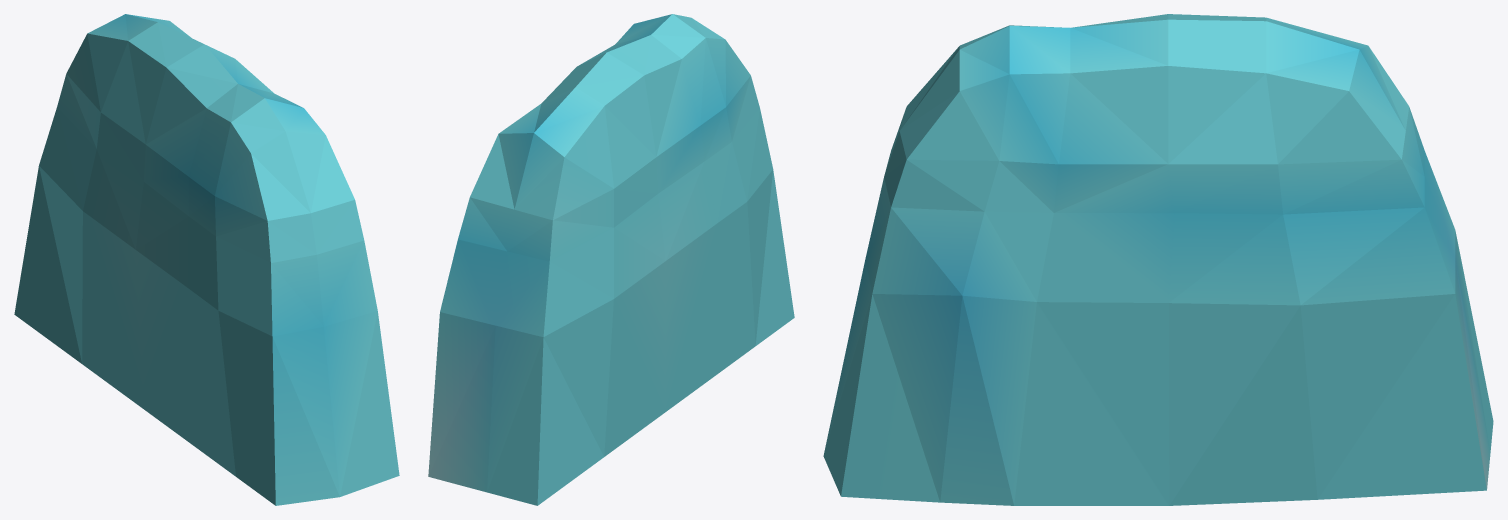
Rendered from iceWall.dae.
3 views of the same model, side by side, from view 1: azimuth 30°, elevation 25°; view 2: azimuth 150°, elevation 25°; view 3: azimuth 270°, elevation 25° (orthographic). The views are drawn at different scales.
Visible parts, largest first — view 1: Cube; view 2: Cube; view 3: Cube.
Boxes of the visible parts, <box> form: Cube: <box>14,14,399,505</box>; Cube: <box>428,14,794,505</box>; Cube: <box>823,14,1493,505</box>.
Bounding box in the file's own units: 2.68 × 8.7 × 6.27.
